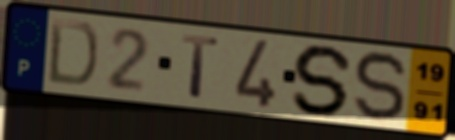2: (104, 26, 155, 95)
4: (231, 37, 279, 111)
D: (45, 16, 101, 90)
S: (290, 43, 358, 119), (351, 49, 410, 125)
T: (179, 32, 222, 102)
